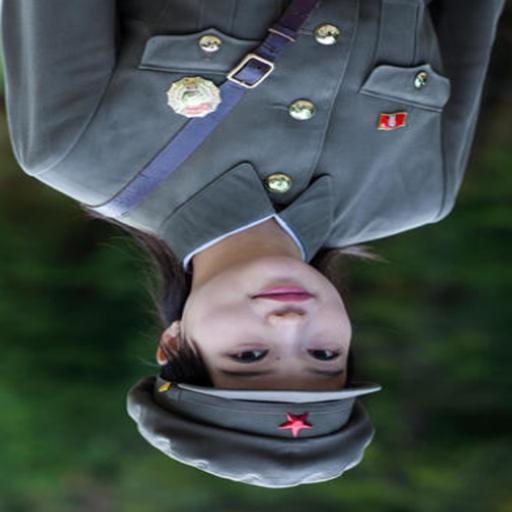north army: (0, 2, 489, 481)
